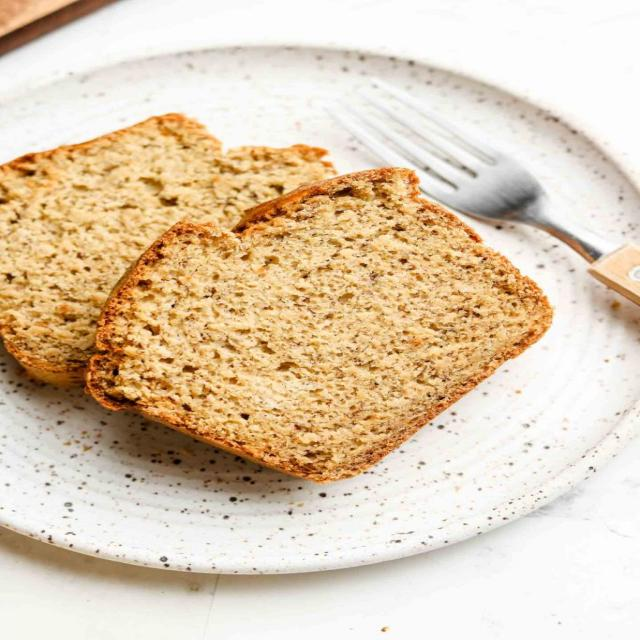Egg: (86, 168, 553, 482), (0, 114, 335, 385)
